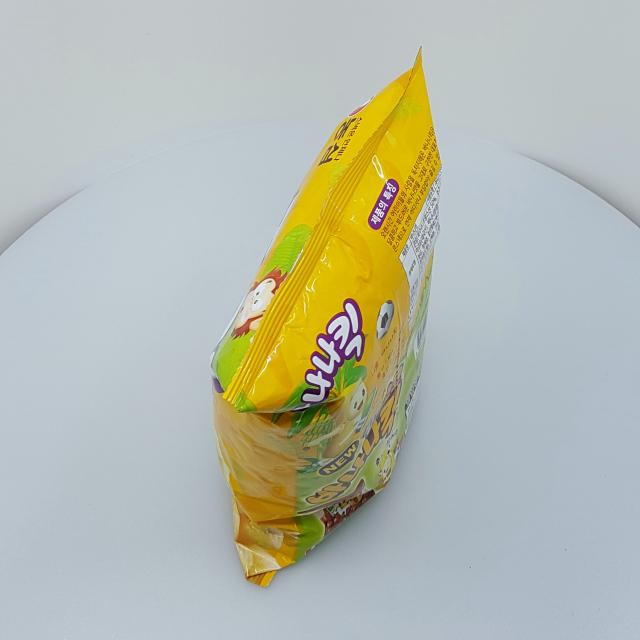-75G: (210, 47, 441, 588)
